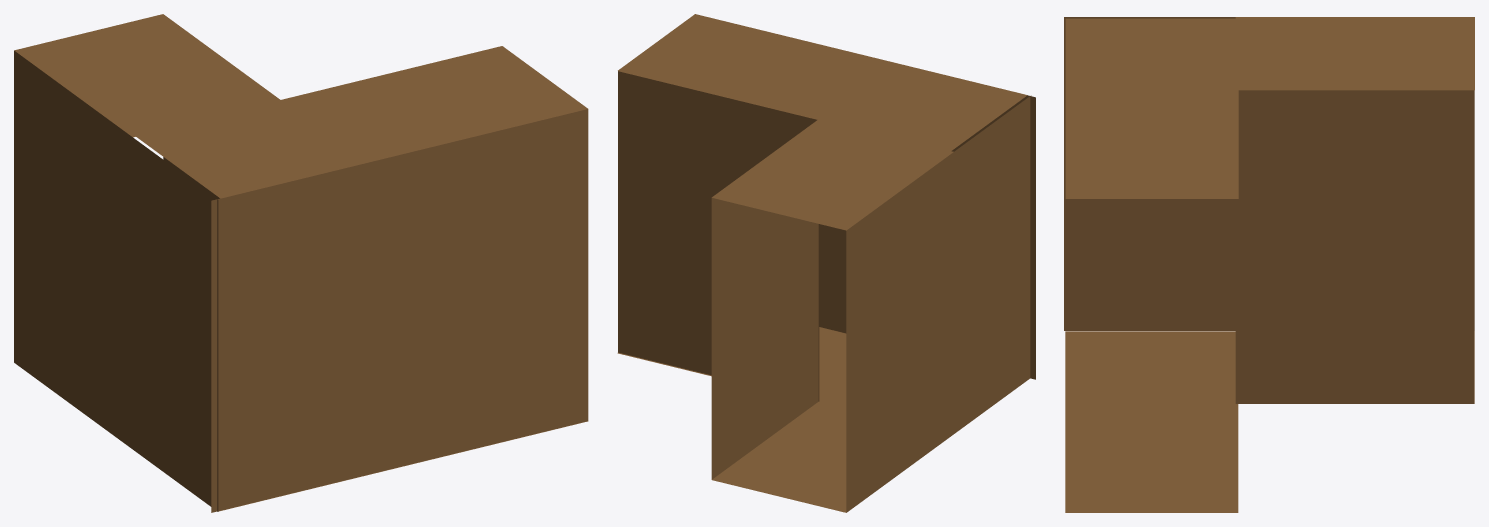
Rendered from creepy hallway turn.fbx.
The picture shows the model from 3 angles, left to right: view 1: azimuth 30°, elevation 25°; view 2: azimuth 150°, elevation 25°; view 3: azimuth 270°, elevation 25°; orthographic projection. The views are drawn at different scales.
Parts seen in each view (by area): view 1: wall4, wall2, ceiling1, ceiling; view 2: wall2, wall3, ceiling1, wall1, ceiling, floor, wall4, floor1; view 3: wall1, ceiling1, floor1, wall2, ceiling.
Boxes of the visible parts, x1=… form: wall4: x1=211, y1=109, x2=588, y2=512; wall2: x1=14, y1=50, x2=218, y2=511; ceiling1: x1=135, y1=46, x2=587, y2=198; ceiling: x1=14, y1=14, x2=281, y2=137; wall2: x1=846, y1=95, x2=1031, y2=512; wall3: x1=618, y1=71, x2=819, y2=401; ceiling1: x1=618, y1=14, x2=1027, y2=151; wall1: x1=711, y1=198, x2=818, y2=479; ceiling: x1=712, y1=119, x2=953, y2=230; floor: x1=712, y1=401, x2=846, y2=512; wall4: x1=819, y1=95, x2=1035, y2=379; floor1: x1=617, y1=327, x2=846, y2=407; wall1: x1=1235, y1=90, x2=1474, y2=403; ceiling1: x1=1065, y1=18, x2=1238, y2=198; floor1: x1=1065, y1=331, x2=1238, y2=512; wall2: x1=1064, y1=17, x2=1474, y2=330; ceiling: x1=1235, y1=17, x2=1474, y2=90.
Bounding box in the file's own units: 12.65 × 10 × 11.86.
